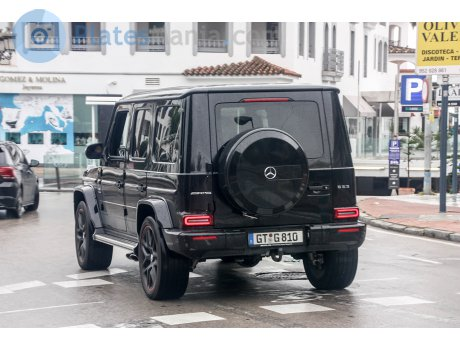License Plates: (254, 230, 301, 239)
